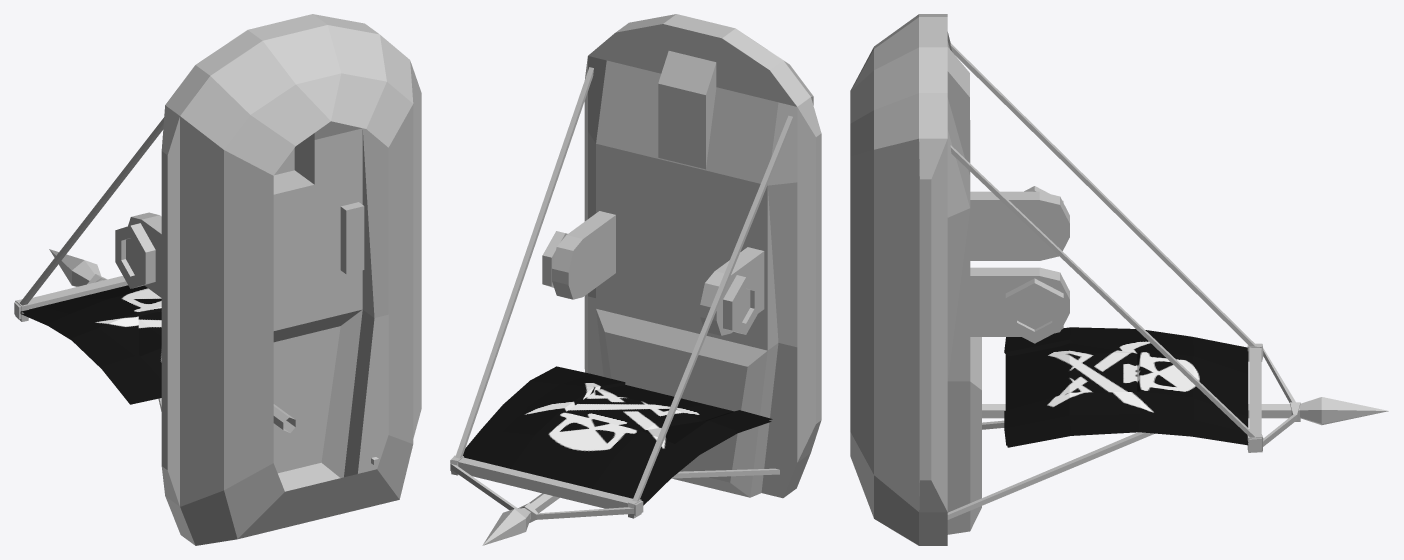
The model's file is pirate_cannon_my_ship_2.fbx.
The picture shows the model from 3 angles, left to right: view 1: azimuth 30°, elevation 25°; view 2: azimuth 150°, elevation 25°; view 3: azimuth 270°, elevation 25°; orthographic projection. The views are drawn at different scales.
Visible parts, largest first — view 1: Cube.262; view 2: Cube.262; view 3: Cube.262.
Boxes of the visible parts, box(x1,y1,x2,y2) form: Cube.262: box(14, 14, 421, 545); Cube.262: box(450, 14, 821, 545); Cube.262: box(850, 14, 1388, 545).
Size of the model in its own units: 225 by 414 by 433.
